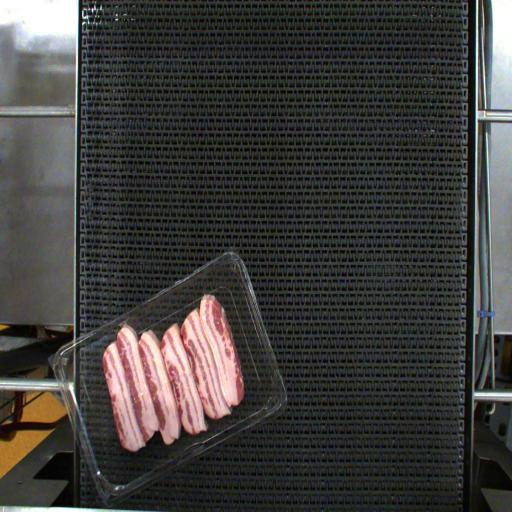packaging-error: (118, 316, 130, 330)
